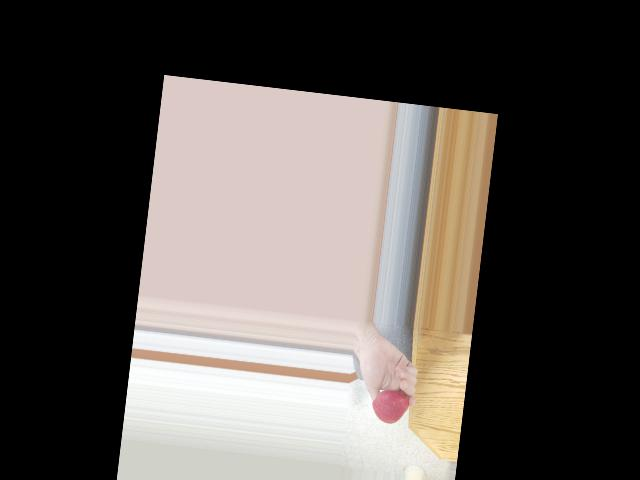apple: (370, 388, 408, 425)
